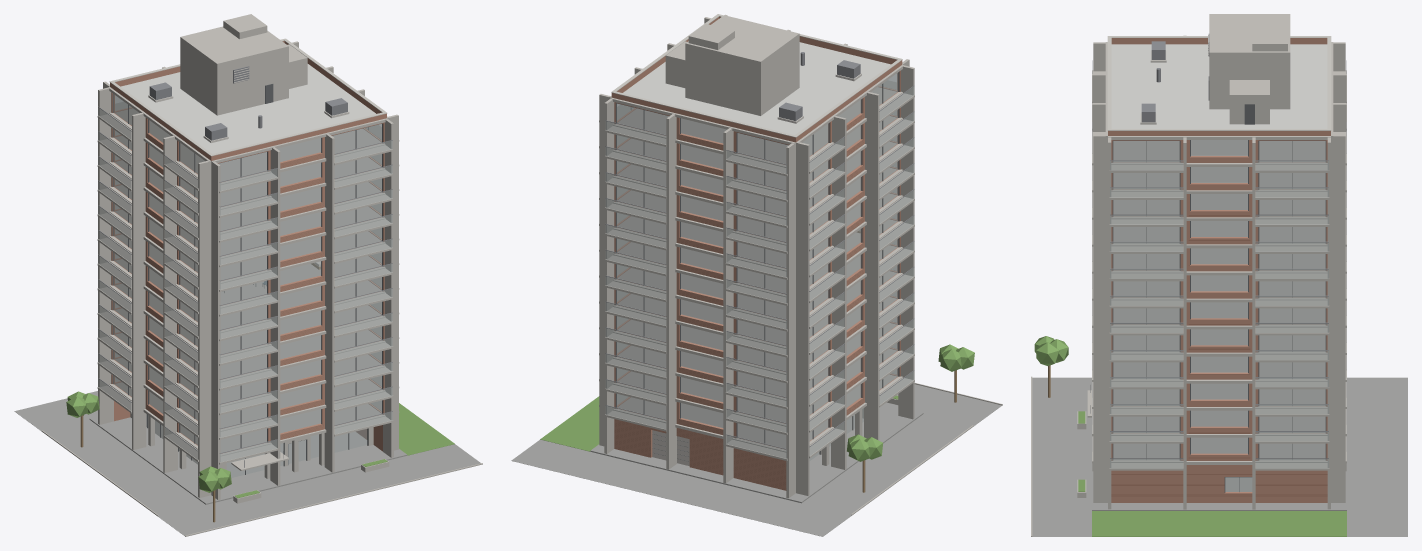
The model's file is clay-slab-balcony-tower-clay-v002.glb.
3 views of the same model, side by side, from view 1: azimuth 30°, elevation 25°; view 2: azimuth 150°, elevation 25°; view 3: azimuth 270°, elevation 25° (orthographic). The views are drawn at different scales.
Visible parts, largest first — view 1: CLAY_CONCRETE, CLAY_GLASS, CLAY_FLOOR, CLAY_FOUNDATION, CLAY_WALL, CLAY_MEMBRANE, CLAY_HARDWARE, CLAY_PLANTING, CLAY_TRIM, CLAY_PALE, CLAY_STONE; view 2: CLAY_CONCRETE, CLAY_GLASS, CLAY_FLOOR, CLAY_FOUNDATION, CLAY_WALL, CLAY_MEMBRANE, CLAY_HARDWARE, CLAY_PLANTING, CLAY_TRIM, CLAY_PALE, CLAY_JOINT; view 3: CLAY_GLASS, CLAY_CONCRETE, CLAY_FLOOR, CLAY_FOUNDATION, CLAY_WALL, CLAY_MEMBRANE, CLAY_PLANTING, CLAY_HARDWARE, CLAY_TRIM, CLAY_JOINT, CLAY_PALE.
Part boxes in pixels (x1=…): CLAY_CONCRETE: x1=97, y1=14, x2=399, y2=503; CLAY_GLASS: x1=98, y1=94, x2=392, y2=477; CLAY_FLOOR: x1=115, y1=108, x2=381, y2=452; CLAY_FOUNDATION: x1=14, y1=391, x2=482, y2=535; CLAY_WALL: x1=110, y1=41, x2=386, y2=453; CLAY_MEMBRANE: x1=121, y1=64, x2=375, y2=153; CLAY_HARDWARE: x1=98, y1=66, x2=392, y2=467; CLAY_PLANTING: x1=66, y1=391, x2=454, y2=498; CLAY_TRIM: x1=112, y1=84, x2=382, y2=474; CLAY_PALE: x1=109, y1=38, x2=387, y2=264; CLAY_STONE: x1=41, y1=430, x2=482, y2=536; CLAY_CONCRETE: x1=599, y1=14, x2=914, y2=498; CLAY_GLASS: x1=605, y1=73, x2=914, y2=460; CLAY_FLOOR: x1=617, y1=87, x2=897, y2=448; CLAY_FOUNDATION: x1=511, y1=384, x2=1002, y2=536; CLAY_WALL: x1=611, y1=16, x2=902, y2=490; CLAY_MEMBRANE: x1=623, y1=42, x2=890, y2=134; CLAY_HARDWARE: x1=605, y1=52, x2=914, y2=461; CLAY_PLANTING: x1=540, y1=344, x2=974, y2=461; CLAY_TRIM: x1=615, y1=72, x2=899, y2=454; CLAY_PALE: x1=611, y1=14, x2=902, y2=465; CLAY_JOINT: x1=614, y1=116, x2=863, y2=490; CLAY_GLASS: x1=1092, y1=140, x2=1346, y2=491; CLAY_CONCRETE: x1=1077, y1=14, x2=1346, y2=509; CLAY_FLOOR: x1=1113, y1=140, x2=1325, y2=460; CLAY_FOUNDATION: x1=1032, y1=377, x2=1407, y2=536; CLAY_WALL: x1=1108, y1=38, x2=1330, y2=502; CLAY_MEMBRANE: x1=1111, y1=44, x2=1327, y2=128; CLAY_PLANTING: x1=1034, y1=336, x2=1346, y2=536; CLAY_HARDWARE: x1=1090, y1=34, x2=1346, y2=458; CLAY_TRIM: x1=1112, y1=76, x2=1326, y2=492; CLAY_JOINT: x1=1111, y1=215, x2=1327, y2=496; CLAY_PALE: x1=1107, y1=35, x2=1331, y2=130.
Size of the model in its own units: 37.36 by 47 by 37.2.
